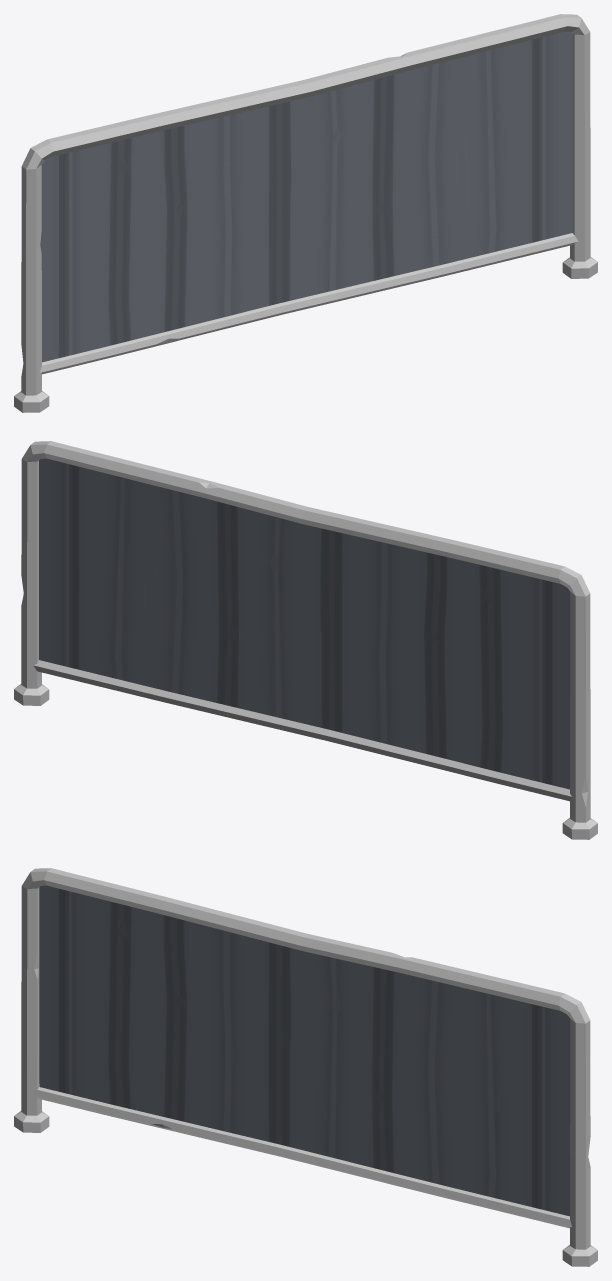
Rendered from SM_Prop_Barrier_Short_04_Alt.fbx.
3 views of the same model, one above another, from view 1: azimuth 30°, elevation 25°; view 2: azimuth 150°, elevation 25°; view 3: azimuth 330°, elevation 25° (orthographic).
Visible parts, largest first — view 1: SM_Prop_Barrier_Short_04_Alt; view 2: SM_Prop_Barrier_Short_04_Alt; view 3: SM_Prop_Barrier_Short_04_Alt.
Part boxes in pixels (x1,y1,x2,y2): SM_Prop_Barrier_Short_04_Alt: (14, 14, 597, 412); SM_Prop_Barrier_Short_04_Alt: (14, 441, 597, 839); SM_Prop_Barrier_Short_04_Alt: (14, 868, 597, 1266).
Size of the model in its own units: 250 by 108 by 12.93.
